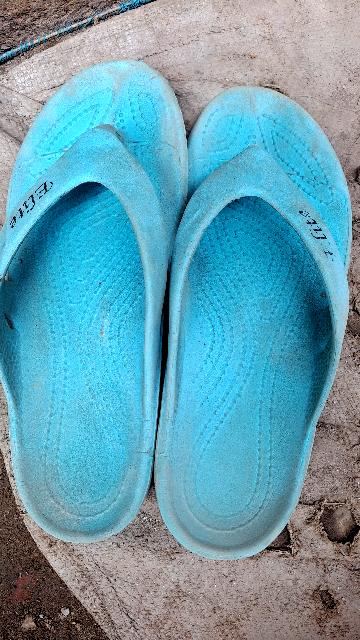sandal: (127, 67, 360, 577), (0, 54, 200, 553)
